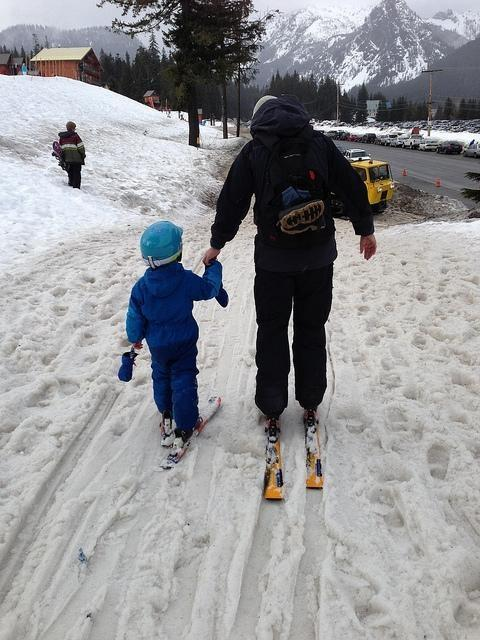car: (344, 148, 372, 163), (438, 140, 462, 154), (418, 140, 438, 152), (463, 144, 480, 158), (379, 134, 398, 146), (362, 132, 376, 144), (324, 130, 340, 140), (390, 138, 404, 148), (354, 133, 365, 142)
truck: (350, 157, 394, 212), (402, 134, 422, 149)
